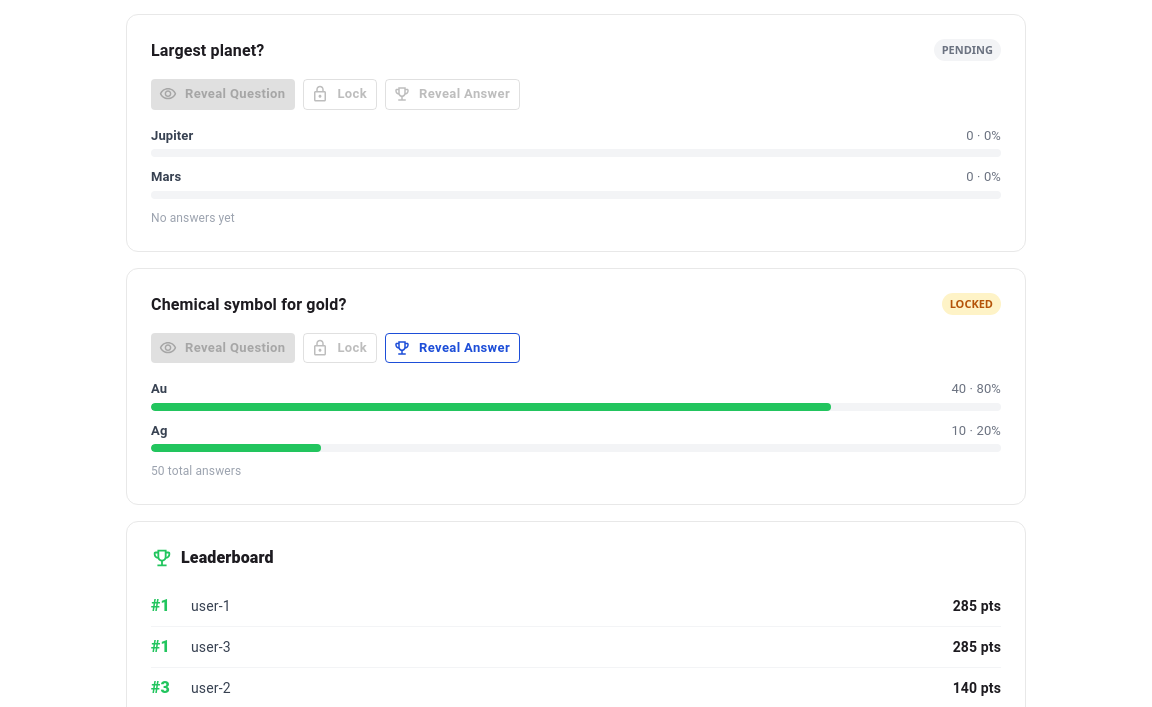
Scenario: TriviaLiveDashboard › reveals the answer and shows the correct option, distribution, and leaderboard
(page scrolled)
Expected: the text "Chemical symbol for gold?" is shown, [151, 294, 346, 314]
Click the button "Reveal Answer" below "Chemical symbol for gold?".
click(452, 348)  # box [385, 332, 520, 363]
(page scrolled)
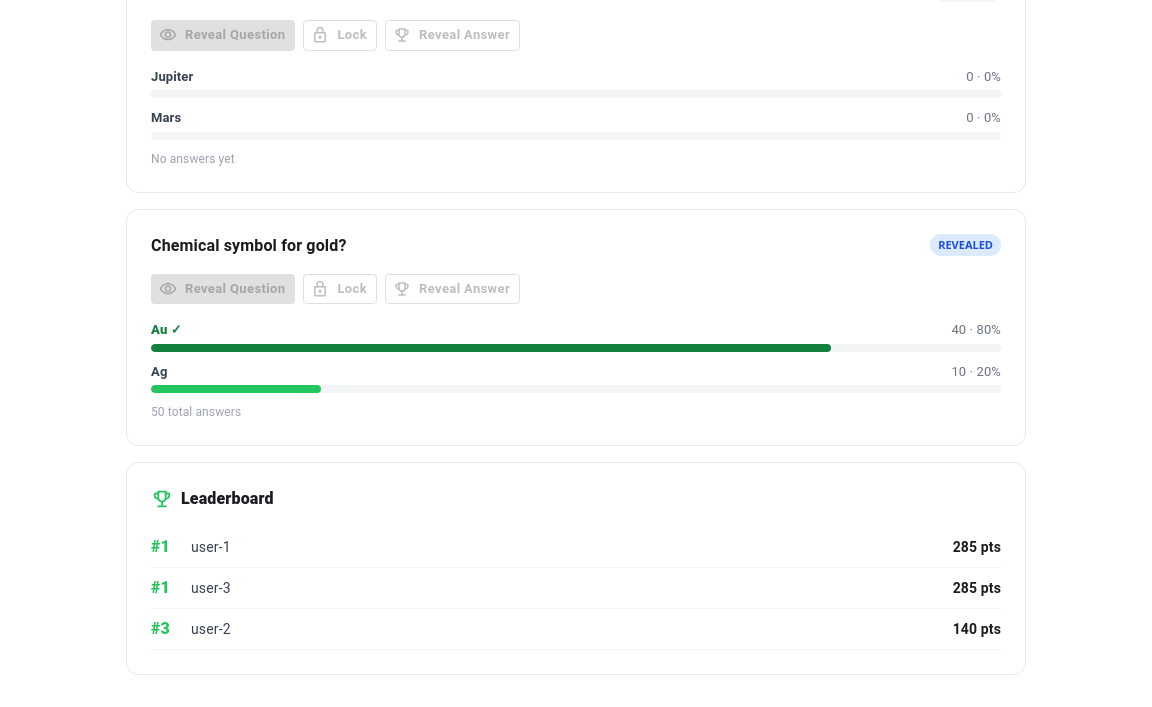
Expected: the text with test id "opt-stat-q3-e" reads "40 · 80%", [951, 320, 1001, 340]
Expected: the element with test id "question-state-q3" reads "REVEALED", [938, 237, 993, 252]
Expected: the text "Au ✓" is shown, [151, 320, 182, 340]
